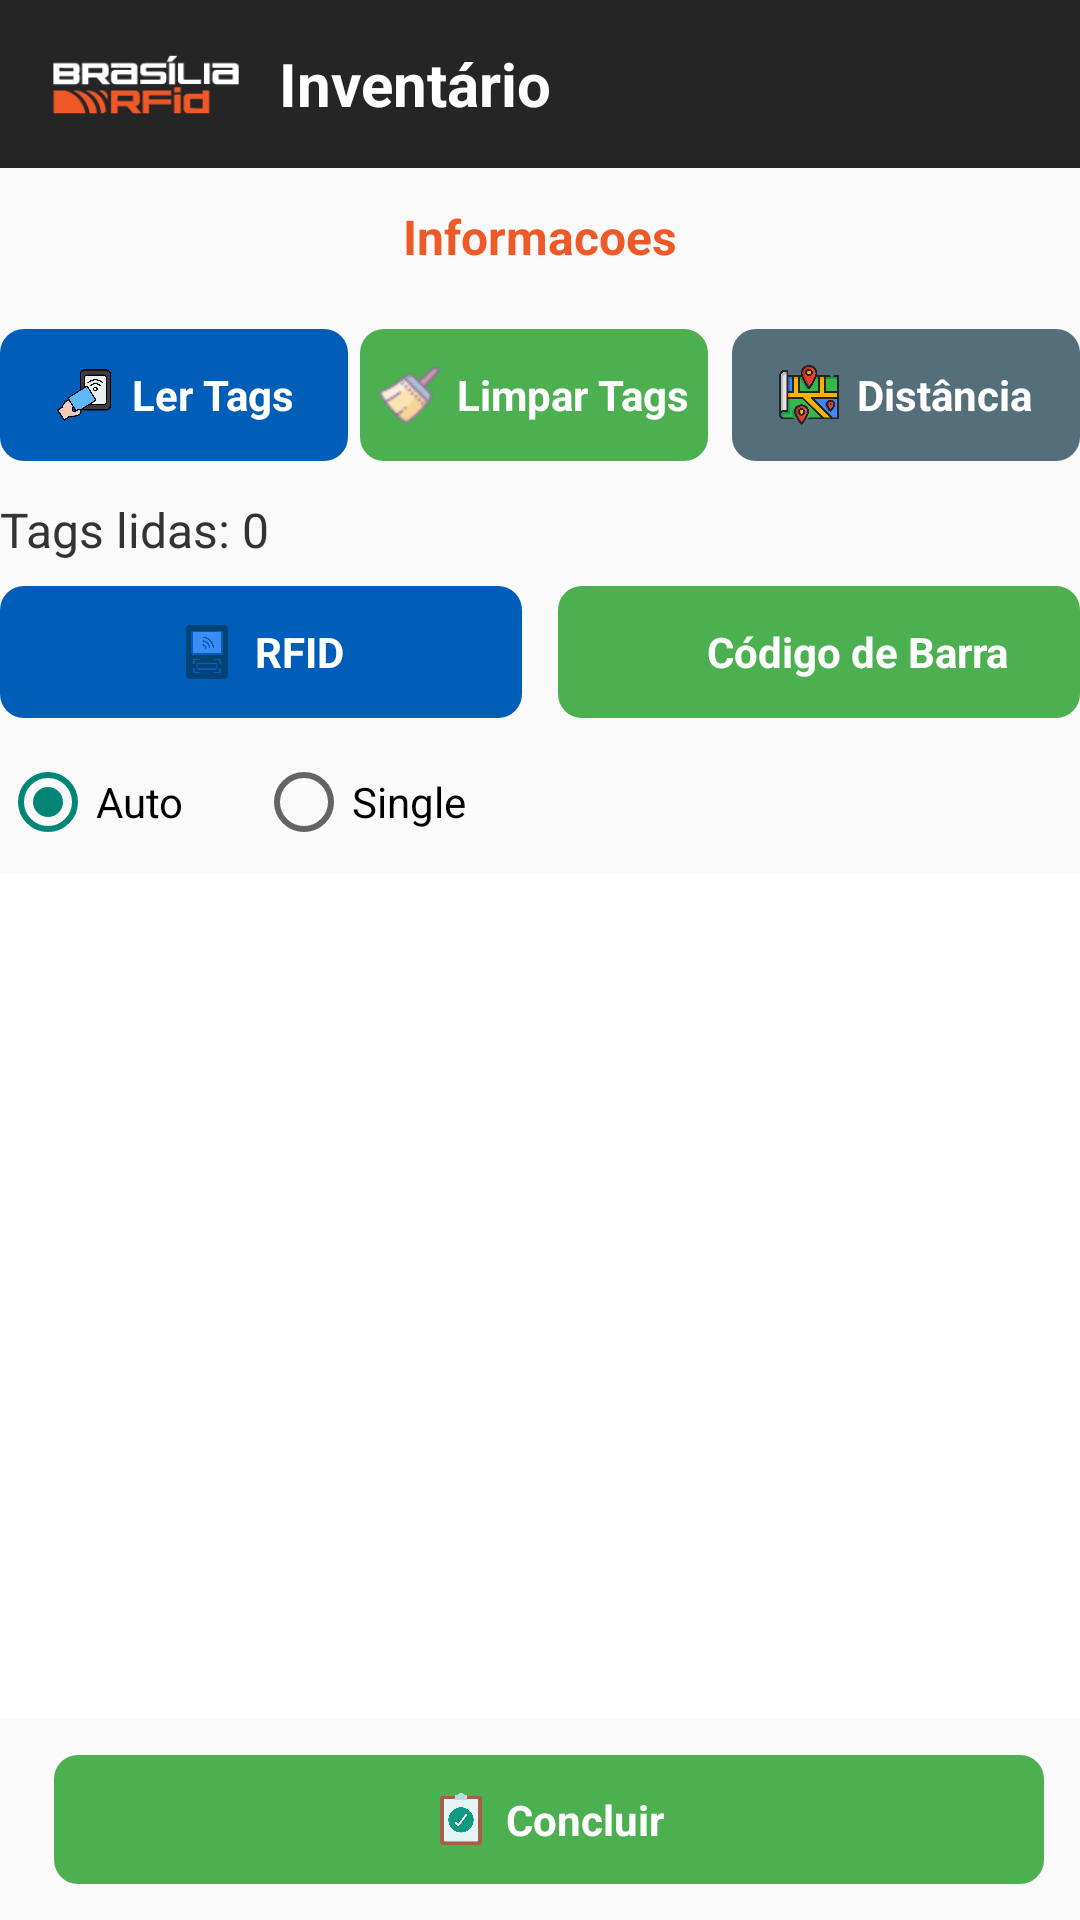

Screen size 1080x1920. Icon name, then its box in pixels as {"x1": x1, "y1": y1, "x2": x2, "y2": y2}:
clean: {"x1": 379, "y1": 367, "x2": 439, "y2": 423}
distance: {"x1": 779, "y1": 365, "x2": 839, "y2": 425}
ler rfid: {"x1": 57, "y1": 369, "x2": 111, "y2": 421}
